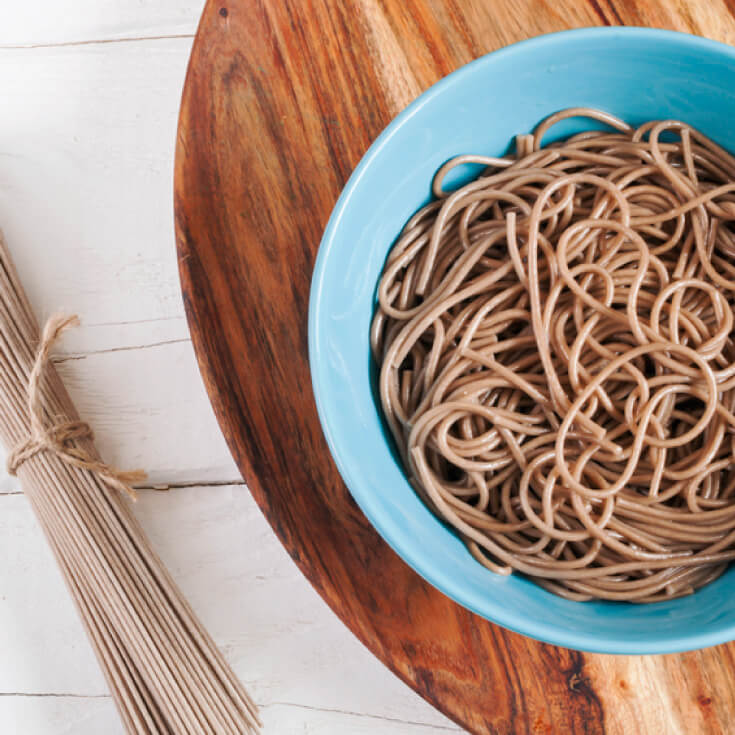Soba: (387, 113, 735, 610)
